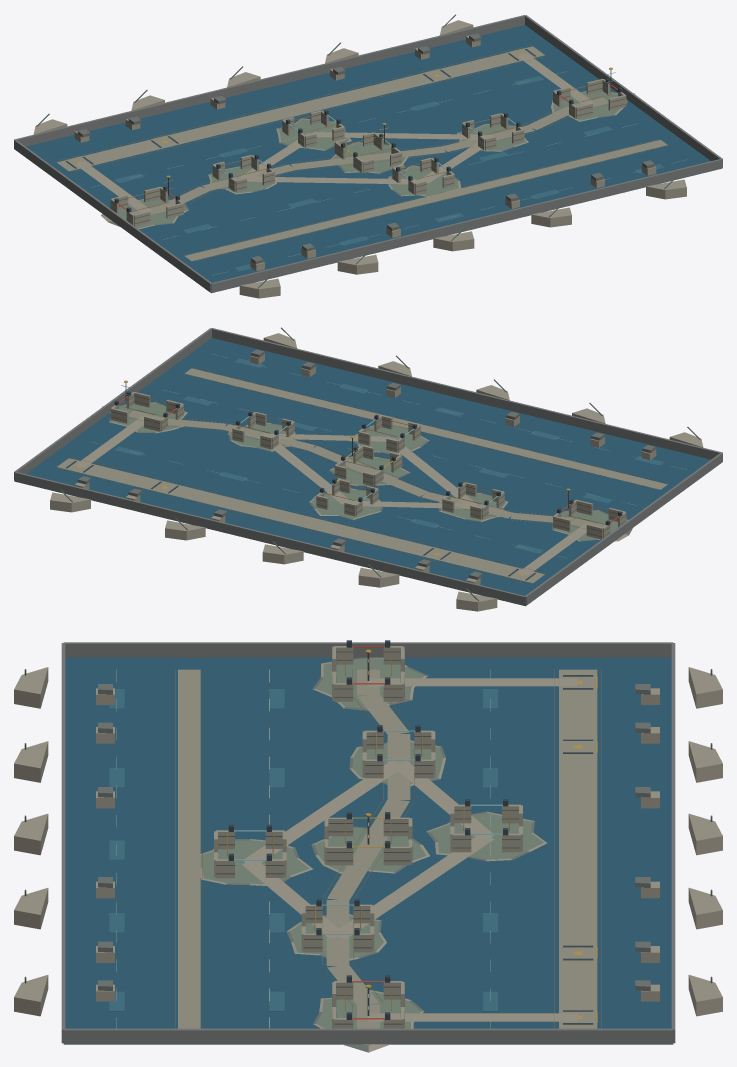
File: tern-archipelago.glb
3 views of the same model, one above another, from view 1: azimuth 30°, elevation 25°; view 2: azimuth 150°, elevation 25°; view 3: azimuth 270°, elevation 25° (orthographic). The views are drawn at different scales.
Visible parts, largest first — view 1: batch.deep-water, batch.limestone, batch.retaining, batch.causeway, batch.island-ground, batch.bronze, batch.water, batch.sediment, batch.cedar, batch.charcoal; view 2: batch.deep-water, batch.limestone, batch.retaining, batch.causeway, batch.island-ground, batch.bronze, batch.water, batch.sediment, batch.cedar, batch.charcoal; view 3: batch.deep-water, batch.limestone, batch.causeway, batch.retaining, batch.island-ground, batch.water, batch.sediment, batch.bronze, batch.cedar, batch.charcoal.
Boxes of the visible parts, x1,y1,x2,y2 form: batch.deep-water: (26,25,721,293); batch.limestone: (33,20,686,298); batch.retaining: (14,15,722,292); batch.causeway: (57,46,667,261); batch.island-ground: (119,91,620,228); batch.bronze: (56,45,667,261); batch.water: (114,76,664,271); batch.sediment: (77,33,654,263); batch.cedar: (36,14,676,288); batch.charcoal: (66,49,622,212); batch.deep-water: (15,338,710,606); batch.limestone: (50,333,703,611); batch.retaining: (14,328,722,605); batch.causeway: (57,368,667,583); batch.island-ground: (111,403,627,540); batch.bronze: (55,367,668,584); batch.water: (114,358,664,553); batch.sediment: (77,349,655,579); batch.cedar: (60,327,700,601); batch.charcoal: (66,383,622,580); batch.deep-water: (64,657,672,1044); batch.limestone: (14,646,722,1052); batch.causeway: (178,669,597,1028); batch.retaining: (61,642,675,1044); batch.island-ground: (200,658,543,1045); batch.water: (109,689,497,1011); batch.sediment: (98,657,650,1052); batch.bronze: (175,652,601,1028); batch.cedar: (24,651,712,1028); batch.charcoal: (228,640,593,1024).
Bounding box in the file's own units: 248 × 15.83 × 186.
